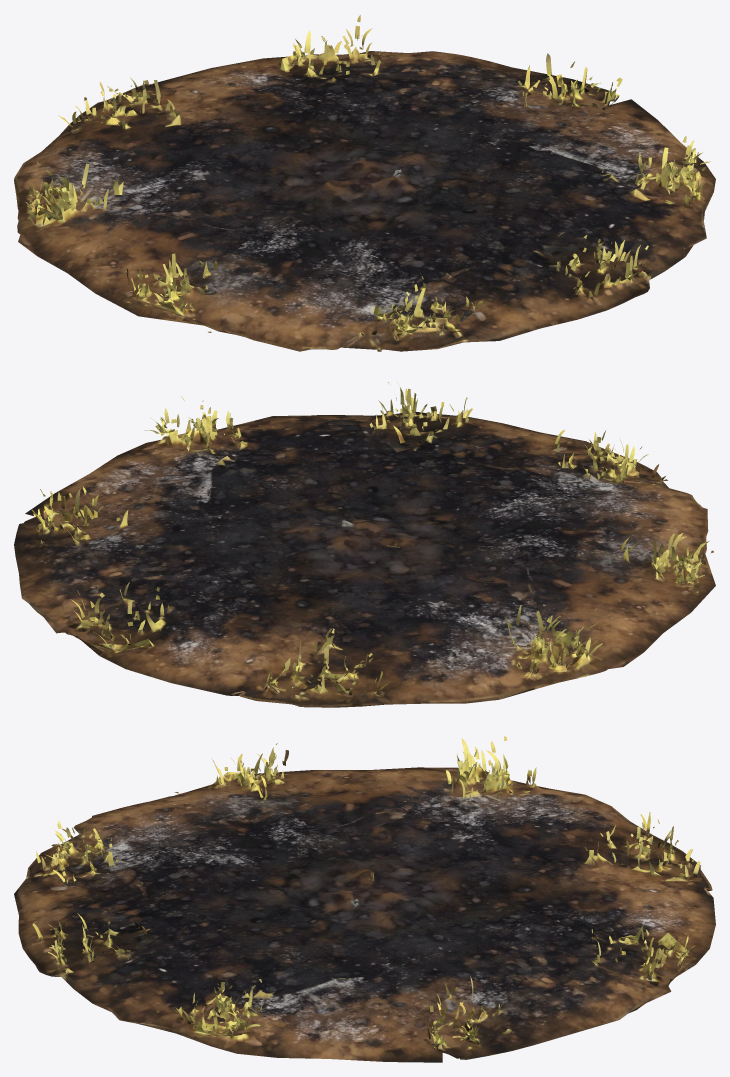
File: scorched_ground_patch.glb
3 views of the same model, one above another, from view 1: azimuth 30°, elevation 25°; view 2: azimuth 150°, elevation 25°; view 3: azimuth 270°, elevation 25° (orthographic).
Visible parts, largest first — view 1: Mesh_0; view 2: Mesh_0; view 3: Mesh_0.
Boxes of the visible parts, x1,y1,x2,y2 form: Mesh_0: (14, 15, 715, 351); Mesh_0: (14, 382, 715, 707); Mesh_0: (14, 736, 715, 1062).
Size of the model in its own units: 1.89 by 0.1597 by 1.89.
Materials: 1 (1 with a texture image).
